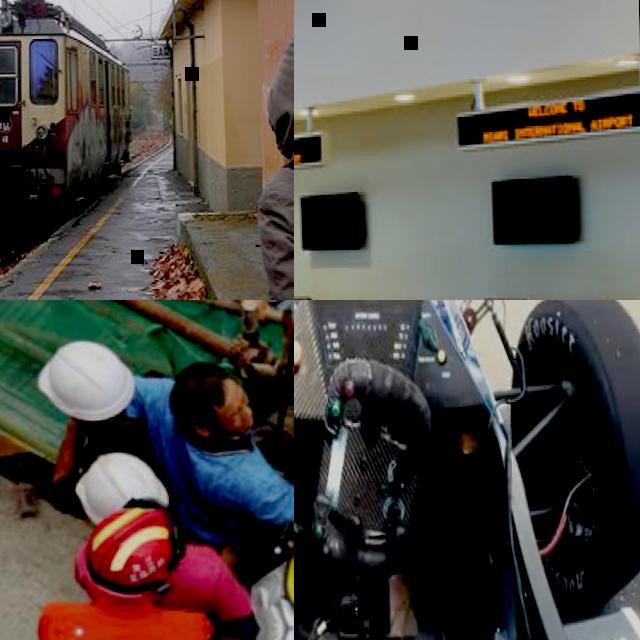Hardhat: (25, 315, 143, 429), (86, 506, 173, 592), (76, 448, 170, 522), (268, 509, 294, 633)
NO-Hardhat: (166, 360, 227, 419), (261, 27, 294, 106)
NO-Mask: (231, 412, 256, 439)
NO-Safety Vest: (150, 413, 256, 548), (144, 552, 221, 621), (92, 398, 152, 471)
Person: (114, 348, 294, 556), (27, 338, 168, 495), (66, 506, 253, 620)
vehicle: (294, 300, 640, 640)
